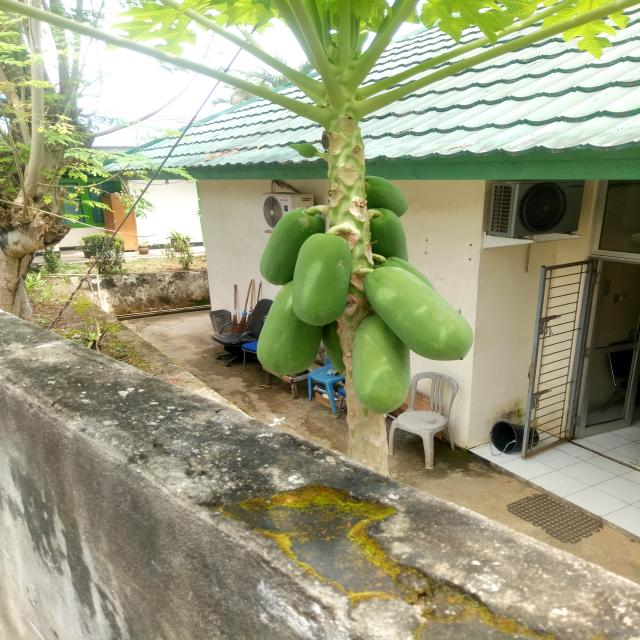Pepaya unrippen: (369, 268, 476, 364), (291, 236, 351, 332), (348, 324, 414, 411), (253, 302, 323, 381), (255, 210, 313, 284), (367, 175, 417, 216), (374, 219, 412, 264)
